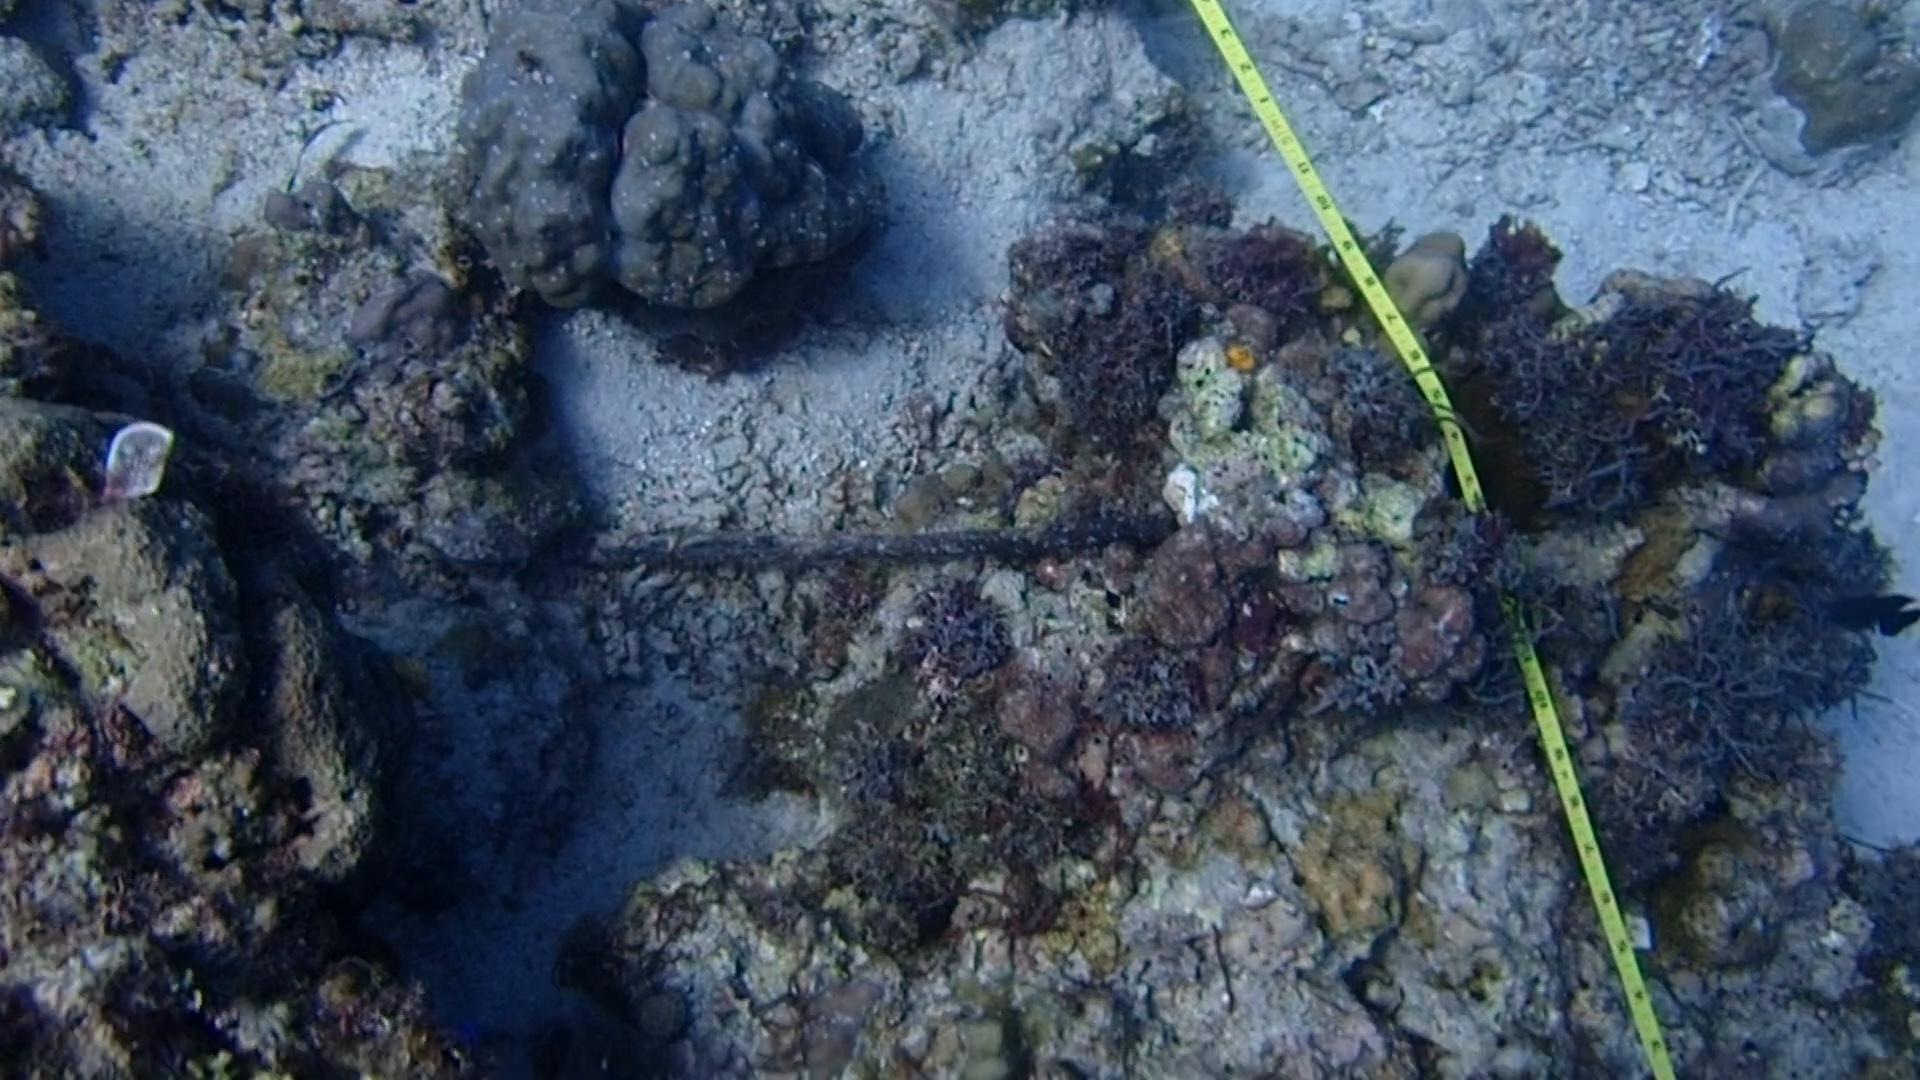Dark Fish: (1805, 568, 1920, 646)
